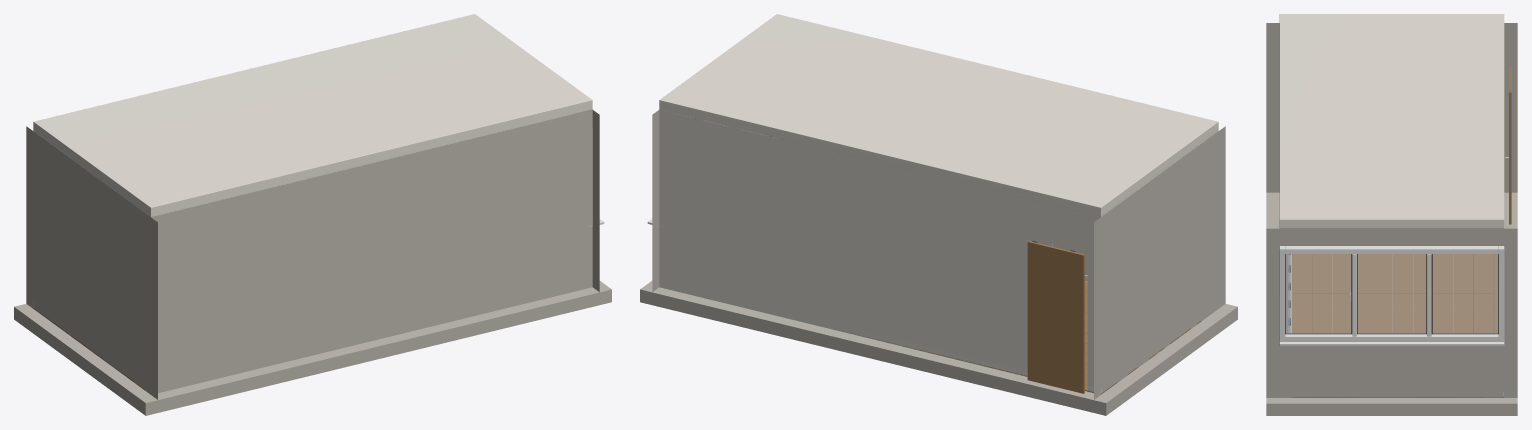
File: synthetic-scene.glb
The picture shows the model from 3 angles, left to right: view 1: azimuth 30°, elevation 25°; view 2: azimuth 150°, elevation 25°; view 3: azimuth 270°, elevation 25°; orthographic projection. The views are drawn at different scales.
Visible parts, largest first — view 1: Wall-01-7.219m, Ceiling added as synthetic assumption, Wall-03-no-window-3.331m, Floor-001-assumed-thickness, Wall-04-window-3.331m; view 2: Wall-02-door-7.219m, Ceiling added as synthetic assumption, Wall-03-no-window-3.331m, Floor-001-assumed-thickness, Installed door, Wall-04-window-3.331m; view 3: Ceiling added as synthetic assumption, Wall-04-window-3.331m, Floor-001-assumed-thickness, Installed glass pane.001, Installed glass pane, Installed glass pane.002, Wall-03-no-window-3.331m, Installed window outer rail.001, Installed window outer rail, Finished window sill, Installed window outer jamb, Installed window outer jamb.001 (+44 smaller).
Boxes of the visible parts, bbox=[...] form: Wall-01-7.219m: bbox=[151, 109, 592, 393]; Ceiling added as synthetic assumption: bbox=[33, 14, 592, 216]; Wall-03-no-window-3.331m: bbox=[26, 126, 157, 399]; Floor-001-assumed-thickness: bbox=[14, 281, 611, 415]; Wall-04-window-3.331m: bbox=[592, 110, 599, 291]; Wall-02-door-7.219m: bbox=[659, 109, 1100, 393]; Ceiling added as synthetic assumption: bbox=[659, 14, 1218, 216]; Wall-03-no-window-3.331m: bbox=[1094, 126, 1225, 399]; Floor-001-assumed-thickness: bbox=[640, 281, 1237, 415]; Installed door: bbox=[1027, 241, 1084, 393]; Wall-04-window-3.331m: bbox=[652, 110, 659, 291]; Ceiling added as synthetic assumption: bbox=[1279, 14, 1504, 228]; Wall-04-window-3.331m: bbox=[1266, 228, 1517, 397]; Floor-001-assumed-thickness: bbox=[1266, 192, 1517, 415]; Installed glass pane.001: bbox=[1358, 254, 1425, 334]; Installed glass pane: bbox=[1286, 254, 1350, 334]; Installed glass pane.002: bbox=[1433, 254, 1497, 334]; Wall-03-no-window-3.331m: bbox=[1266, 23, 1517, 192]; Installed window outer rail.001: bbox=[1285, 246, 1498, 253]; Installed window outer rail: bbox=[1285, 334, 1498, 341]; Finished window sill: bbox=[1279, 341, 1504, 345]; Installed window outer jamb: bbox=[1279, 246, 1285, 341]; Installed window outer jamb.001: bbox=[1498, 246, 1504, 341].
Bounding box in the file's own units: 7.62 × 3.12 × 3.73.
